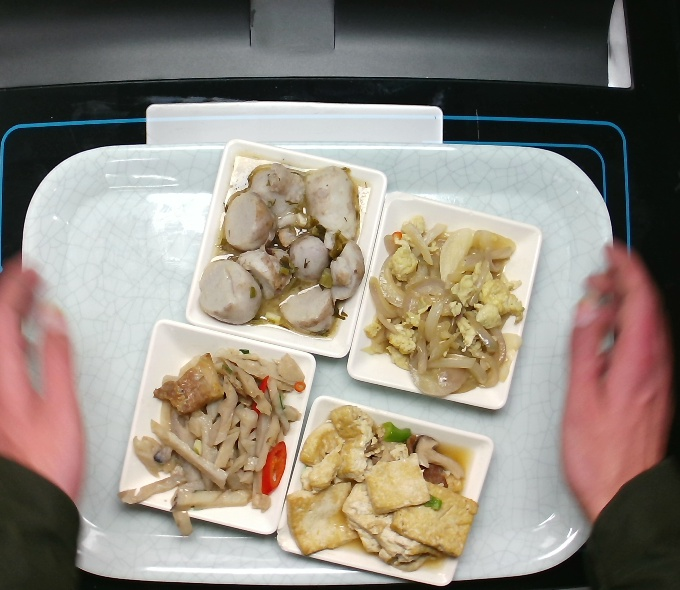wcq-JiaChangDouFu: (280, 396, 485, 580)
wcq-QingChaoOuPian: (122, 348, 308, 537)
wcq-YangCongChaoDan: (358, 212, 535, 398)
wcq-YangYu: (191, 150, 371, 347)
